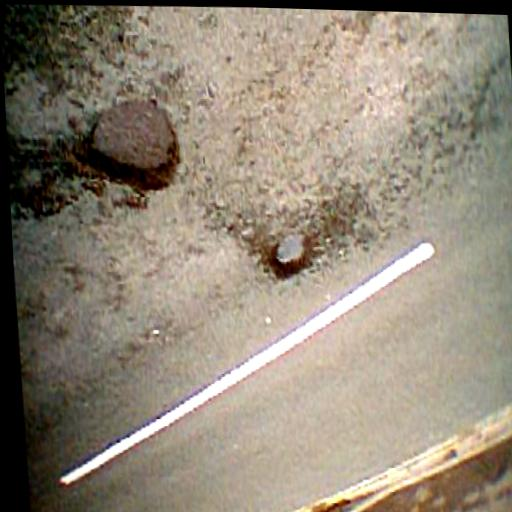pothole: (83, 90, 185, 199), (266, 226, 317, 287)
